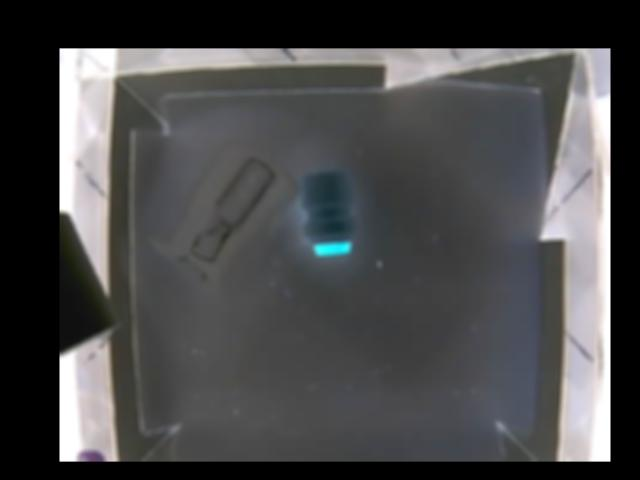Bottle: (147, 146, 284, 279), (299, 171, 356, 255)
